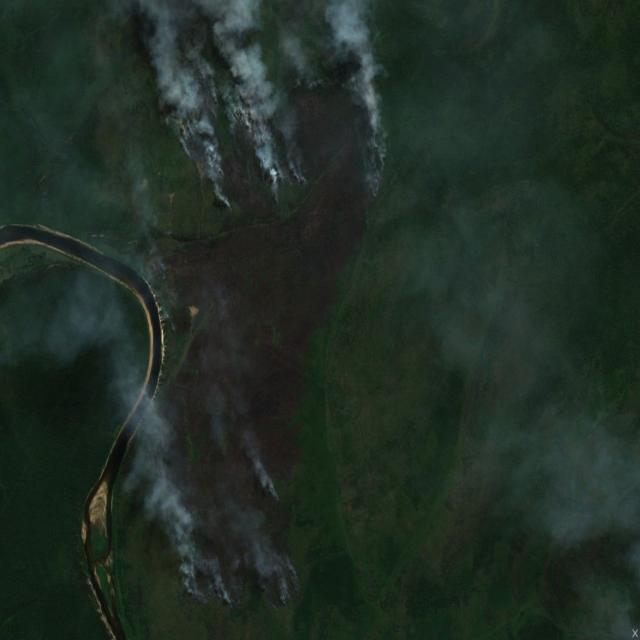fire: (140, 54, 407, 628)
